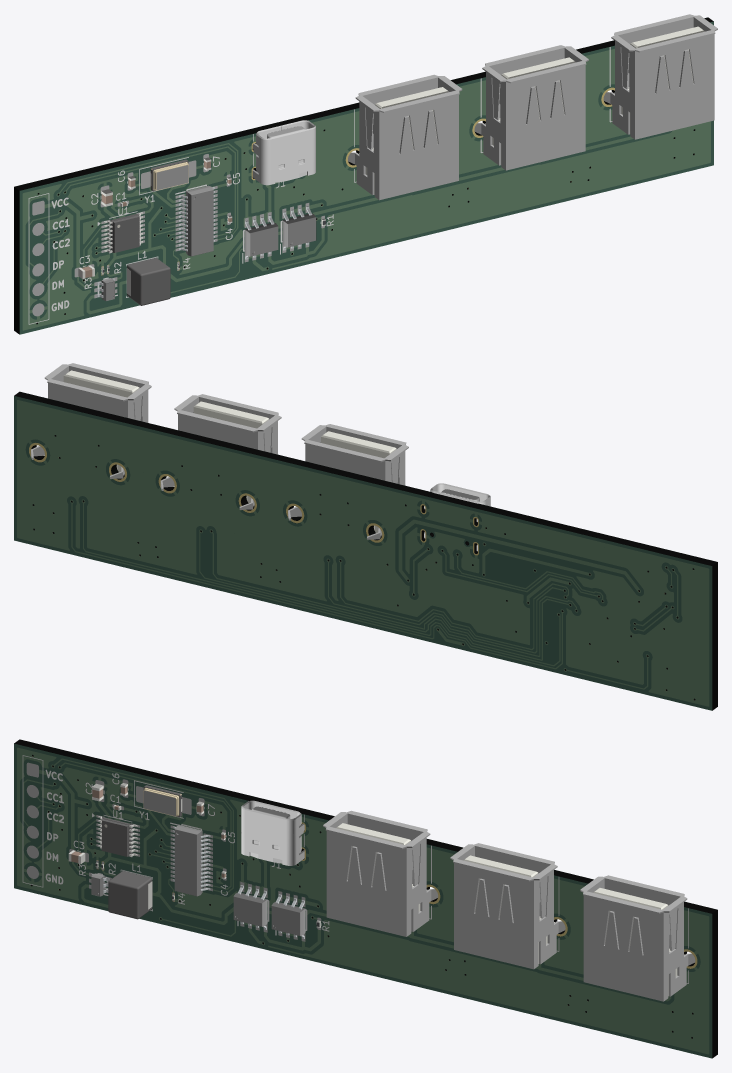
File: USB_C_3D.glb
3 renders of one model, top to bottom at view 1: azimuth 30°, elevation 25°; view 2: azimuth 150°, elevation 25°; view 3: azimuth 330°, elevation 25°, orthographic.
Visible parts, largest first — view 1: Node2517, Node2515, Node2513, Node240, Node1217, Node1425, Node2514, Node2516, Node2520, Node521, Node256, Node1441 (+10 smaller); view 2: Node2519, Node2518, Node2513, Node2514, Node284, Node1261, Node1469, Node1215, Node238, Node1423; view 3: Node2517, Node2515, Node2513, Node240, Node1425, Node1217, Node2514, Node2516, Node2520, Node521, Node1439, Node254 (+10 smaller).
Part boxes in pixels (x1,y1,x2,y2): Node2517: (19, 21, 713, 334); Node2515: (23, 49, 710, 329); Node2513: (20, 21, 713, 333); Node240: (379, 94, 458, 200); Node1217: (506, 65, 585, 170); Node1425: (635, 34, 714, 139); Node2514: (14, 17, 713, 334); Node2516: (32, 154, 324, 316); Node2520: (28, 47, 612, 324); Node521: (270, 129, 312, 184); Node256: (359, 101, 379, 199); Node1441: (615, 41, 634, 139); Node2519: (14, 396, 712, 710); Node2518: (17, 400, 708, 705); Node2513: (14, 396, 711, 709); Node2514: (14, 391, 717, 710); Node284: (305, 444, 385, 480); Node1261: (178, 414, 257, 449); Node1469: (48, 383, 127, 417); Node1215: (174, 394, 280, 431); Node238: (302, 424, 408, 460); Node1423: (45, 363, 151, 400); Node2517: (14, 743, 712, 1058); Node2515: (17, 748, 708, 1053); Node2513: (14, 743, 711, 1057); Node240: (326, 831, 406, 936); Node1425: (583, 895, 663, 1001); Node1217: (454, 863, 533, 969); Node2514: (14, 739, 717, 1058); Node2516: (26, 762, 321, 941); Node2520: (22, 755, 688, 983); Node521: (244, 810, 286, 865); Node1439: (663, 902, 683, 1001); Node254: (406, 838, 426, 936).
Size of the model in its own units: 31.9 by 7.05 by 3.17.
